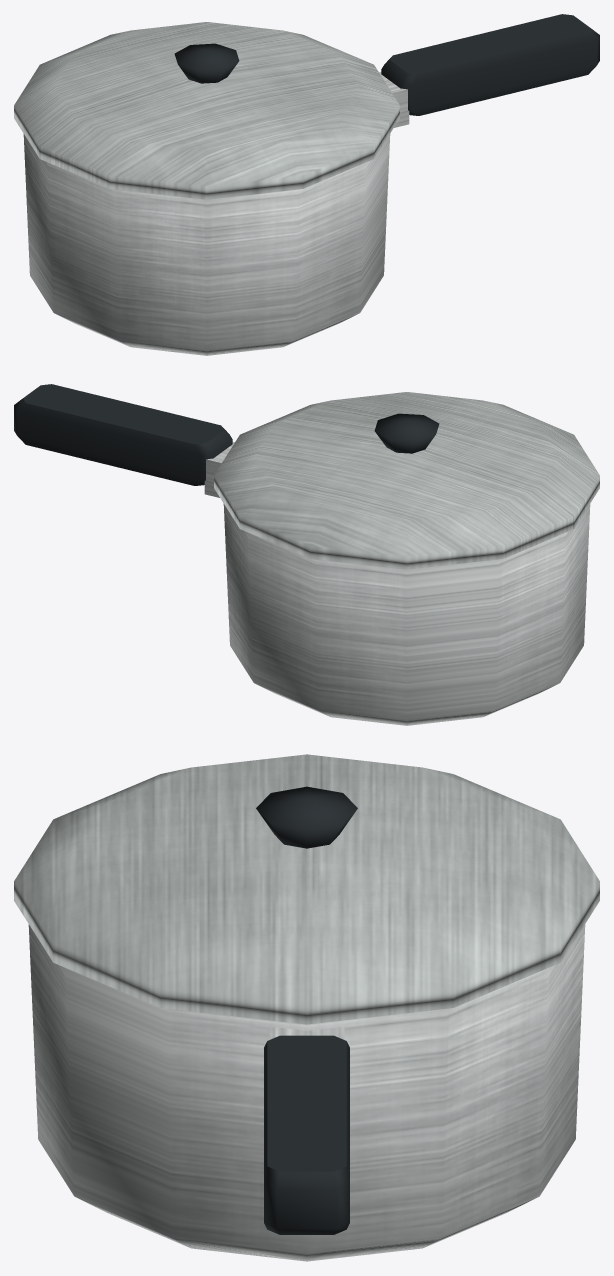
Rendered from saucepan.glb.
3 renders of one model, top to bottom at view 1: azimuth 30°, elevation 25°; view 2: azimuth 150°, elevation 25°; view 3: azimuth 270°, elevation 25°, orthographic. The views are drawn at different scales.
Visible parts, largest first — view 1: saucepan; view 2: saucepan; view 3: saucepan.
Boxes of the visible parts, box(x1,y1,x2,y2) form: saucepan: box(14, 14, 599, 355); saucepan: box(14, 384, 599, 725); saucepan: box(14, 754, 599, 1261).
Bounding box in the file's own units: 0.359 × 0.15 × 0.218.
Materials: 2 (1 with a texture image).
